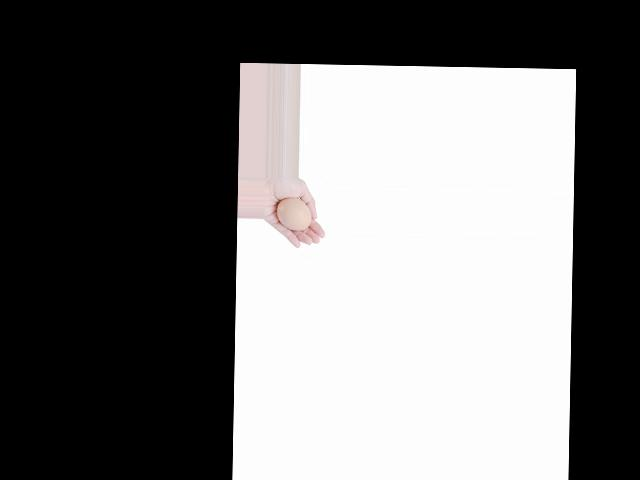egg: (276, 197, 311, 231)
